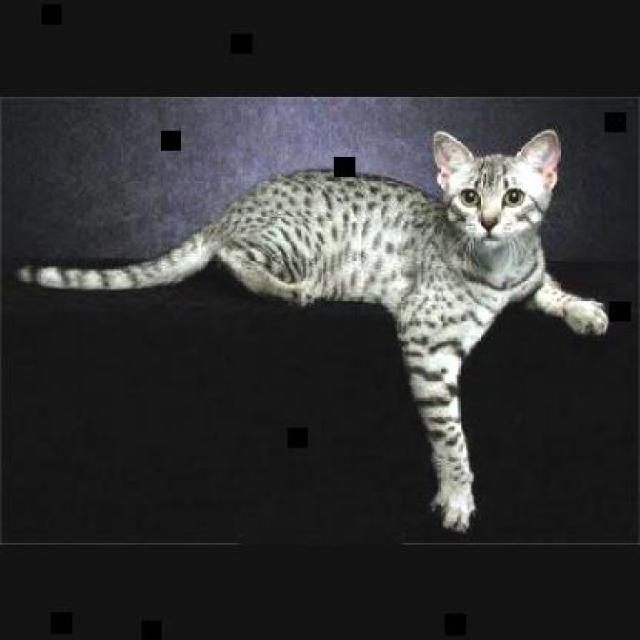unauthorized: (14, 126, 609, 534)
